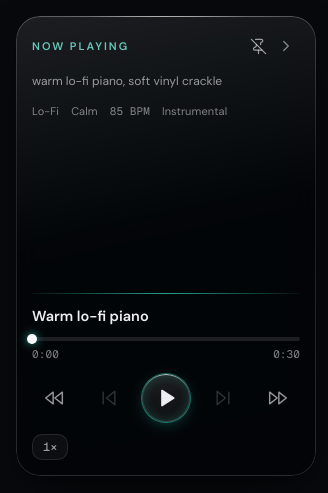
Player — compact › on a rail route › collapses AND unpins from the chevron
The width and height of the screenshot is (328, 493).
Click the button named "Collapse player" at coordinates (286, 46), box [272,32,300,60]
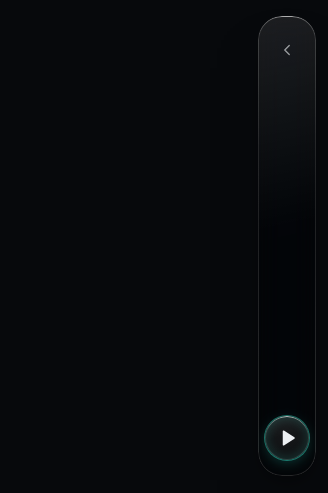
Expected: the button named "Expand player" is shown, [269,32,305,68]
